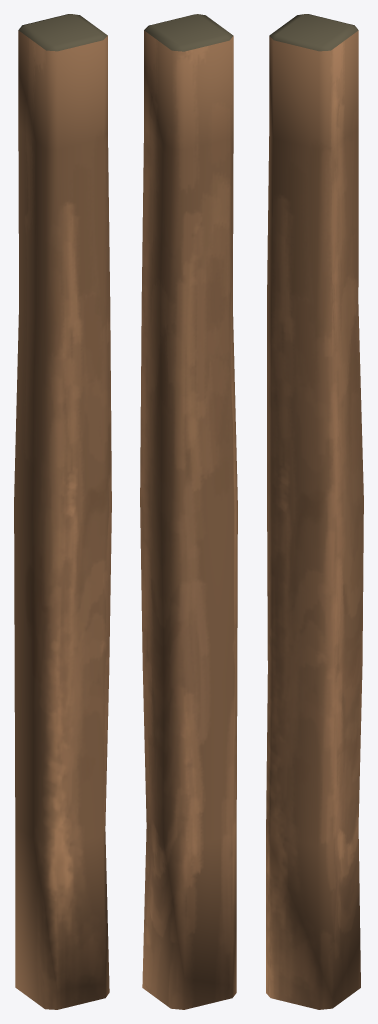
The model's file is beamShort.fbx.
The picture shows the model from 3 angles, left to right: view 1: azimuth 30°, elevation 25°; view 2: azimuth 210°, elevation 25°; view 3: azimuth 330°, elevation 25°; orthographic projection.
Parts seen in each view (by area): view 1: beamMedium; view 2: beamMedium; view 3: beamMedium.
Boxes of the visible parts, <box> form: beamMedium: <box>14,14,111,1009</box>; beamMedium: <box>140,14,237,1009</box>; beamMedium: <box>266,14,363,1009</box>.
Size of the model in its own units: 0.3177 by 4.21 by 0.322.
